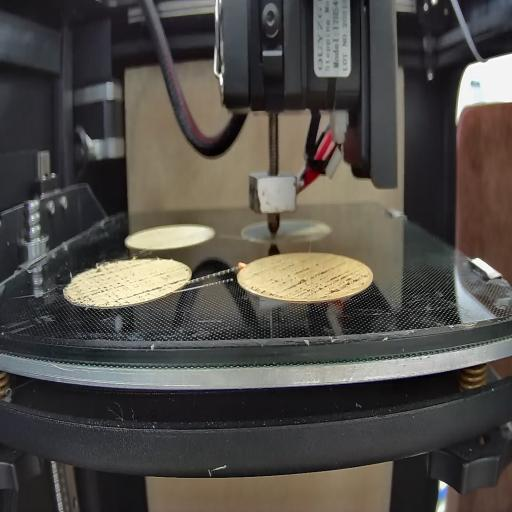under_extrusion: (250, 266, 370, 298), (69, 266, 142, 310), (146, 272, 189, 294)
